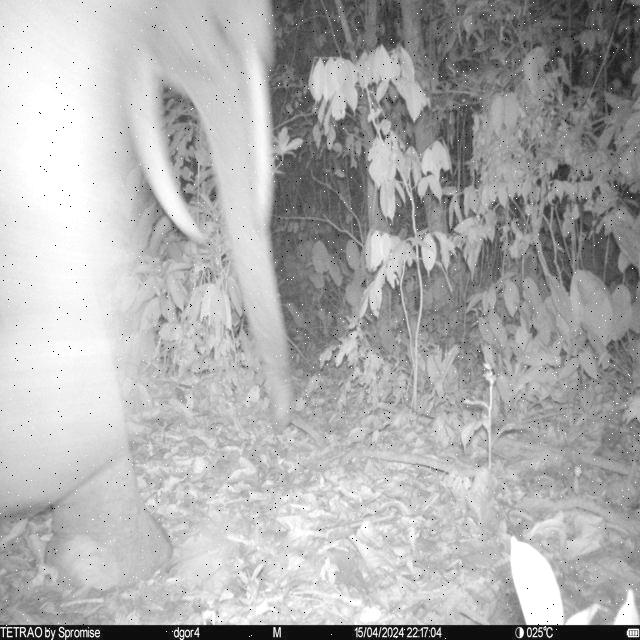elephant: (0, 0, 295, 593)
tusk: (122, 52, 208, 249), (240, 46, 278, 235)
